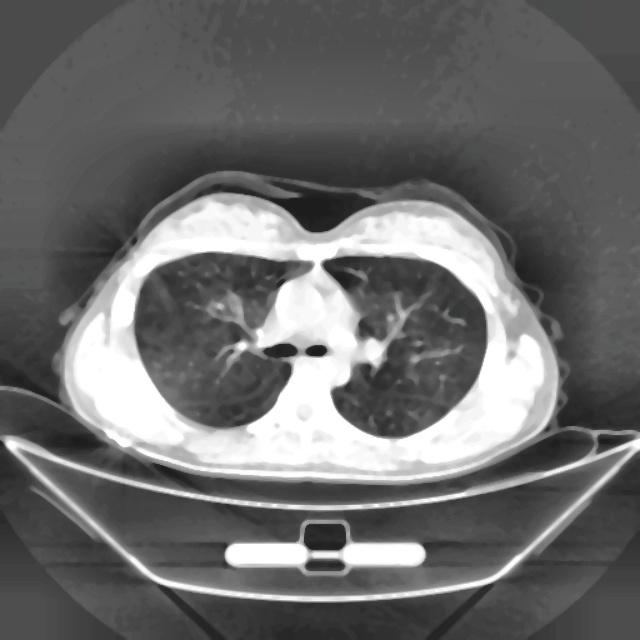covid: (53, 171, 564, 487)
